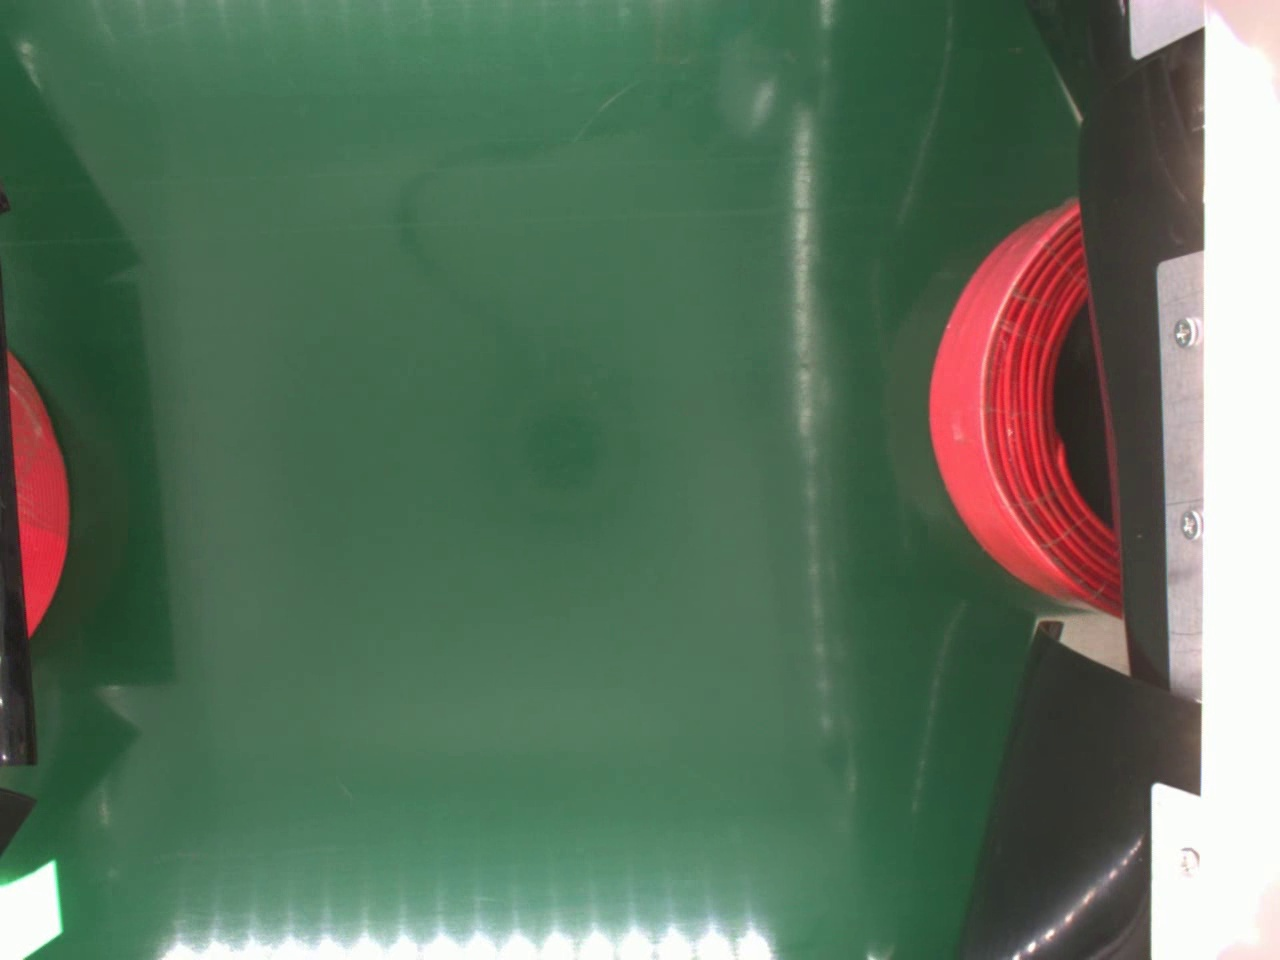red: (927, 196, 1120, 615)
